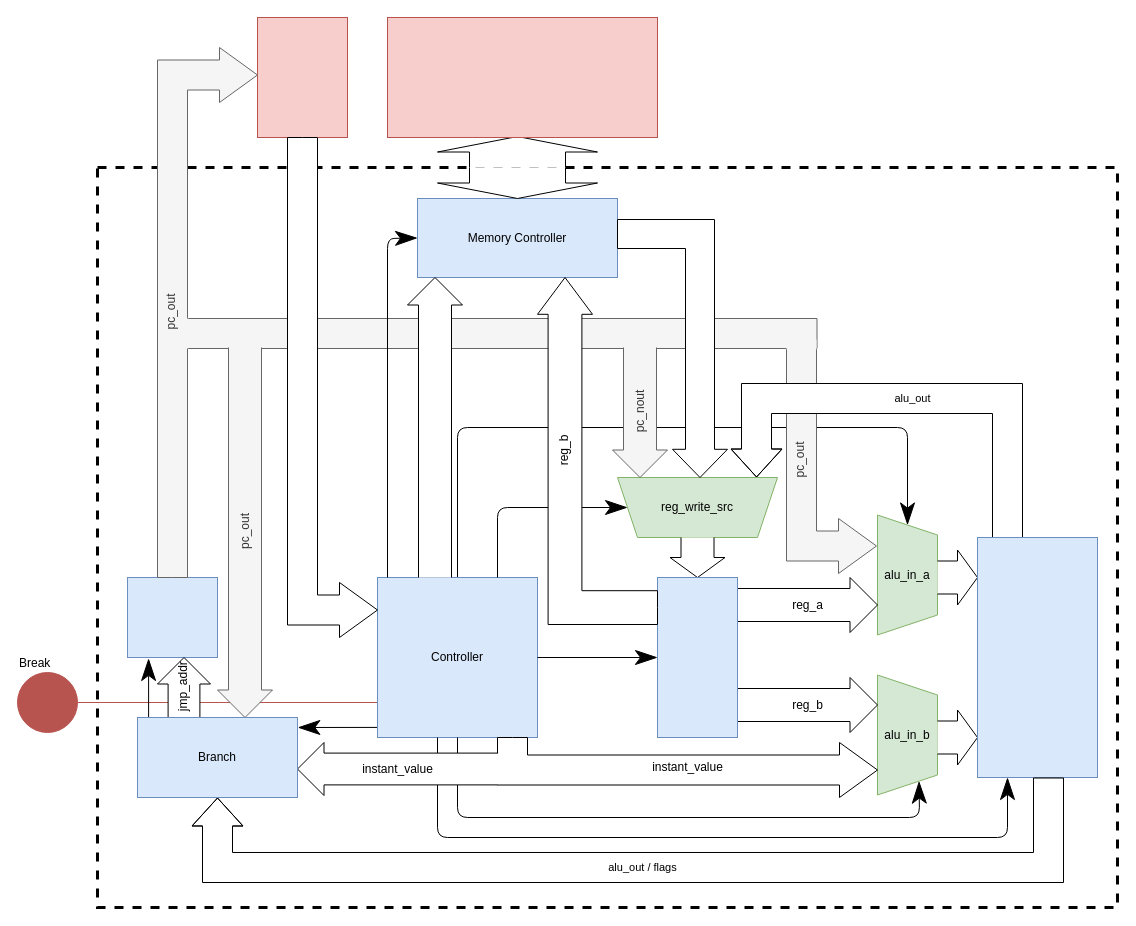
Image size: 1136x926. Some labels were removed from this diagram. The shapes that lost their labels are listed below. From the top down, each one's centre as x and y in pixels, then its label:
the point at 302,77: ROM
the point at 522,77: RAM
the point at 672,348: mem_out
the point at 332,387: instruction
the point at 434,427: mem_addr
the point at 697,557: reg_in
the point at 172,617: PC
the point at 697,657: Regs
the point at 1037,657: ALU
